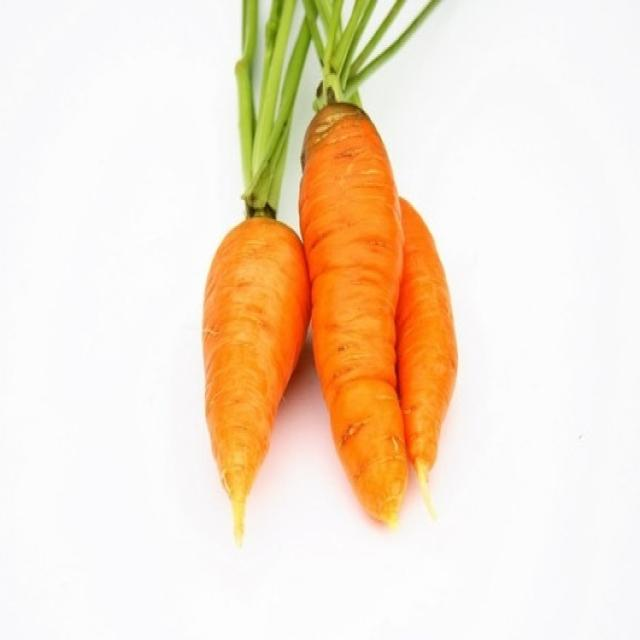Fresh_Carrot: (292, 103, 406, 522), (200, 226, 306, 490), (389, 177, 468, 521)
